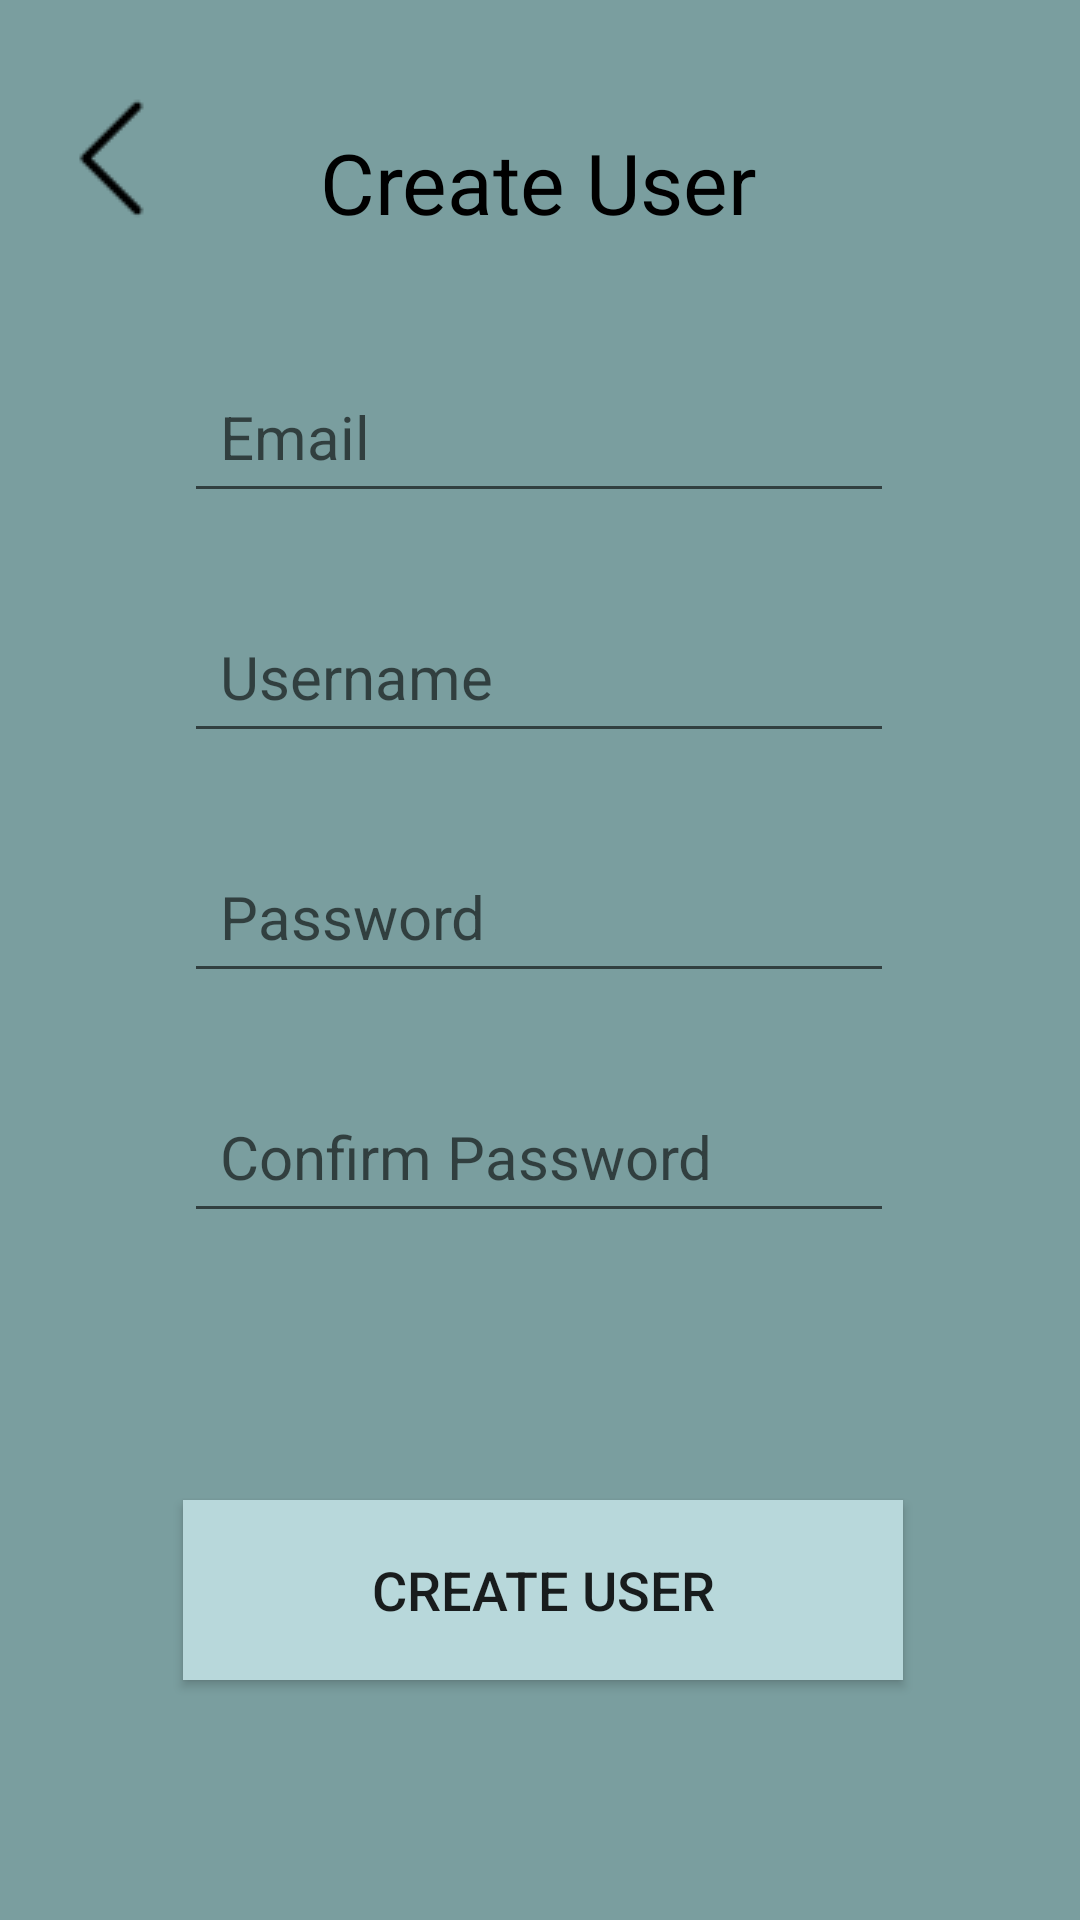

Where to tap for icons on this 1080w x 1920h app screen, as [x,y]:
backarrow: [111,158]
